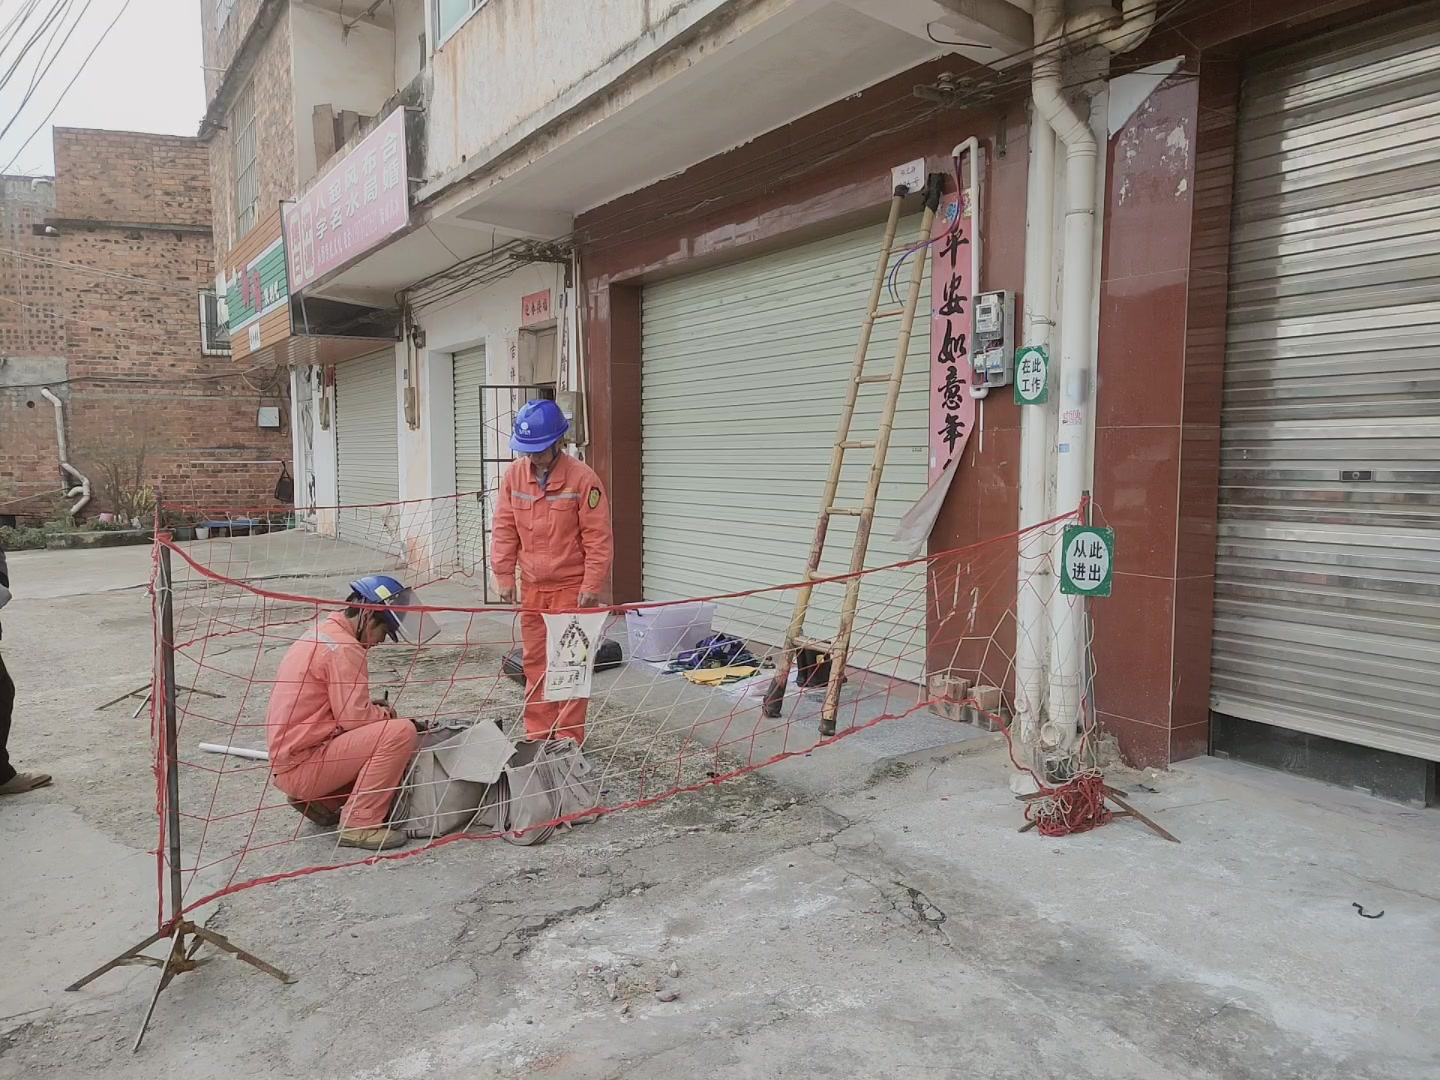halt: (511, 400, 571, 457)
hand: (576, 590, 601, 610), (495, 587, 518, 604)
inear: (354, 601, 380, 639), (547, 429, 569, 455)
intosign: (1058, 523, 1117, 598)
person: (490, 388, 615, 753), (266, 571, 427, 853)
sleeve: (587, 485, 602, 510)
worksign: (1012, 345, 1052, 407)
ydownsuit: (275, 715, 423, 823), (510, 603, 592, 742)
yupsuit: (268, 617, 393, 745), (494, 459, 608, 598)
